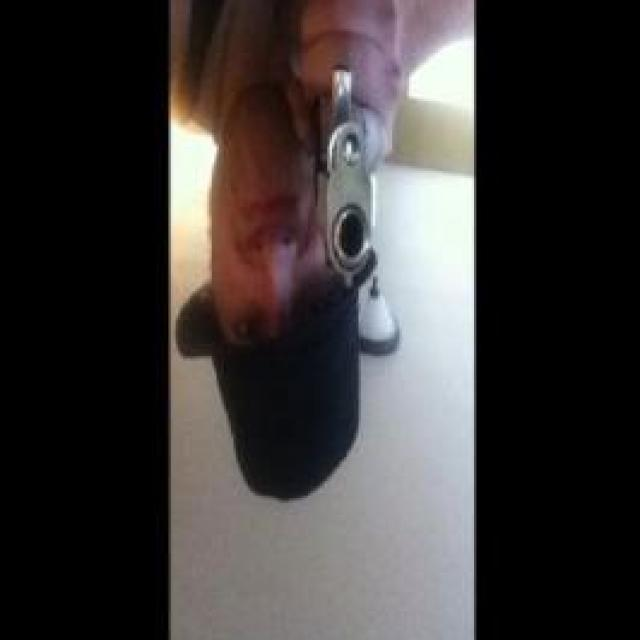pistol: (308, 57, 374, 291)
